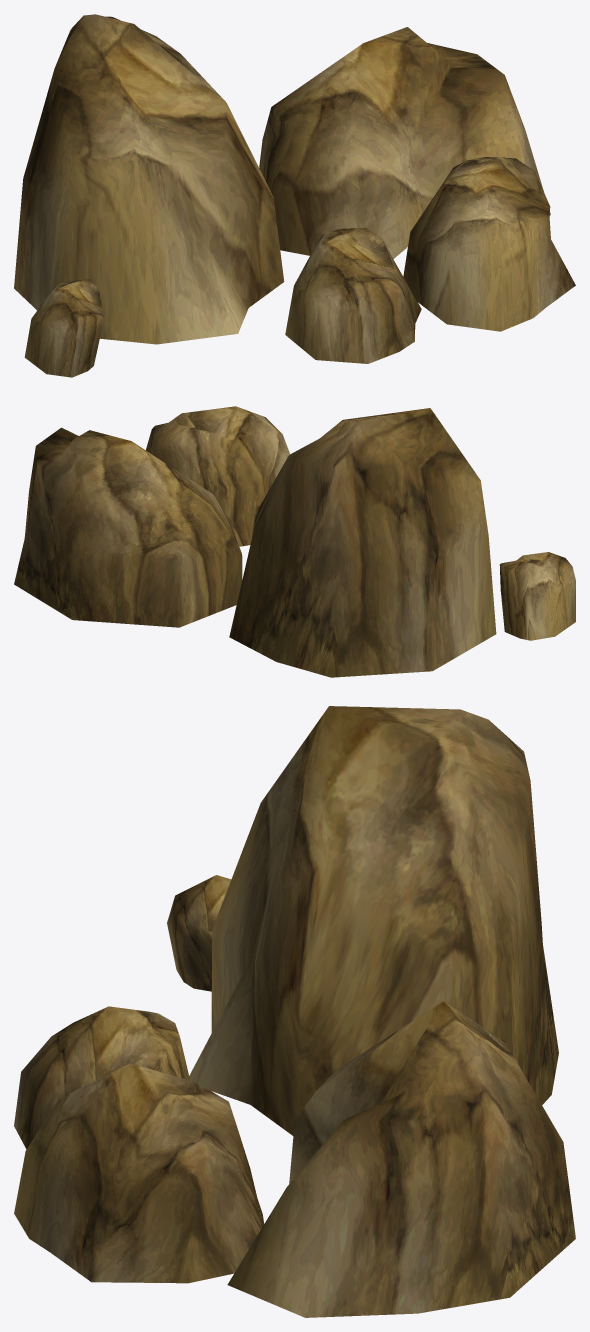
The model's file is obj_macoprro10.glb.
3 views of the same model, one above another, from view 1: azimuth 30°, elevation 25°; view 2: azimuth 150°, elevation 25°; view 3: azimuth 270°, elevation 25° (orthographic). The views are drawn at different scales.
Parts seen in each view (by area): view 1: part_0; view 2: part_0; view 3: part_0.
Part boxes in pixels (x1,y1,x2,y2): part_0: (14,14,575,377); part_0: (14,406,575,677); part_0: (14,706,575,1317).
Bounding box in the file's own units: 7.2 × 3.24 × 4.77.
Materials: 1 (1 with a texture image).
